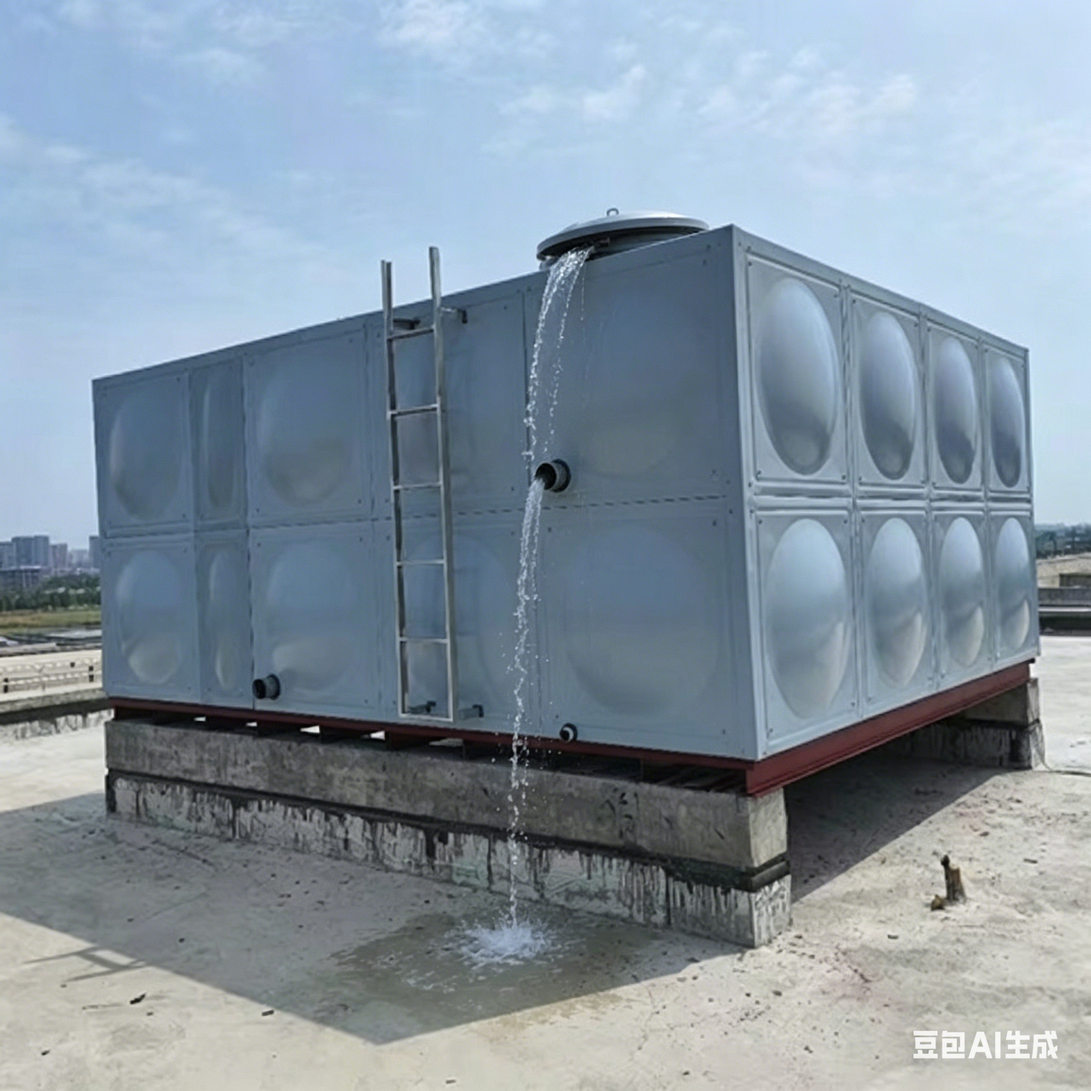Leakage: (505, 489, 574, 967), (515, 259, 590, 459), (443, 909, 491, 965)
